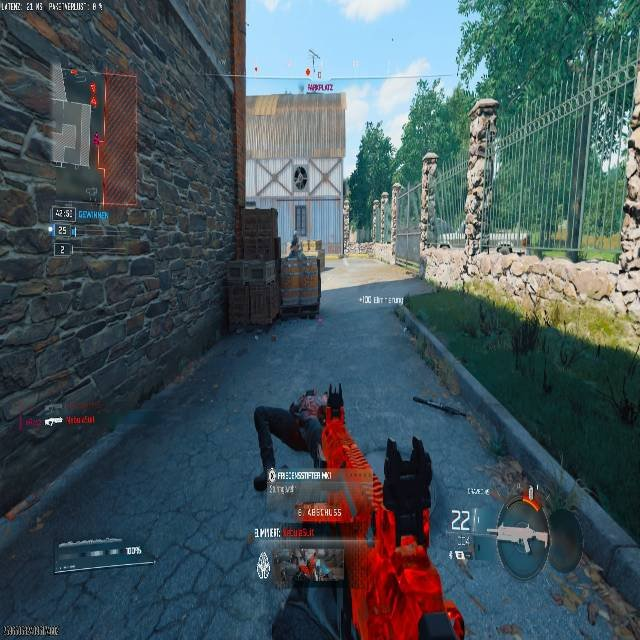player: (251, 385, 344, 492), (293, 166, 307, 190), (287, 234, 300, 258)
